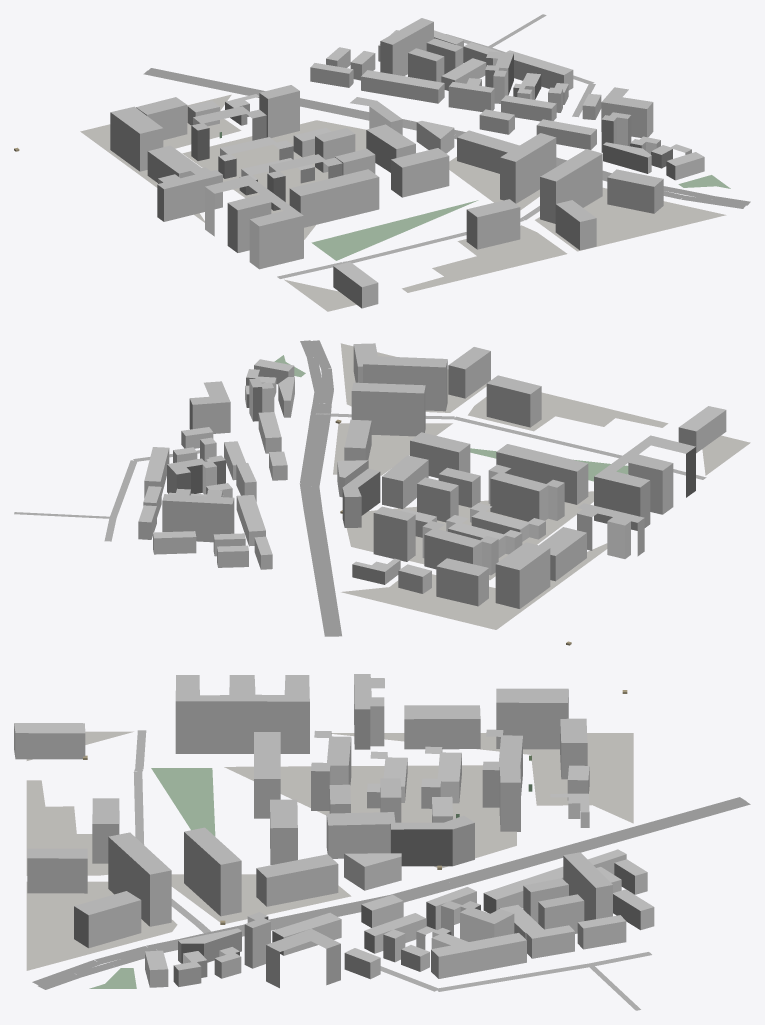
3 renders of one model, top to bottom at view 1: azimuth 30°, elevation 25°; view 2: azimuth 150°, elevation 25°; view 3: azimuth 270°, elevation 25°, orthographic. The views are drawn at different scales.
Size of the model in its own units: 625 by 49.08 by 607.
